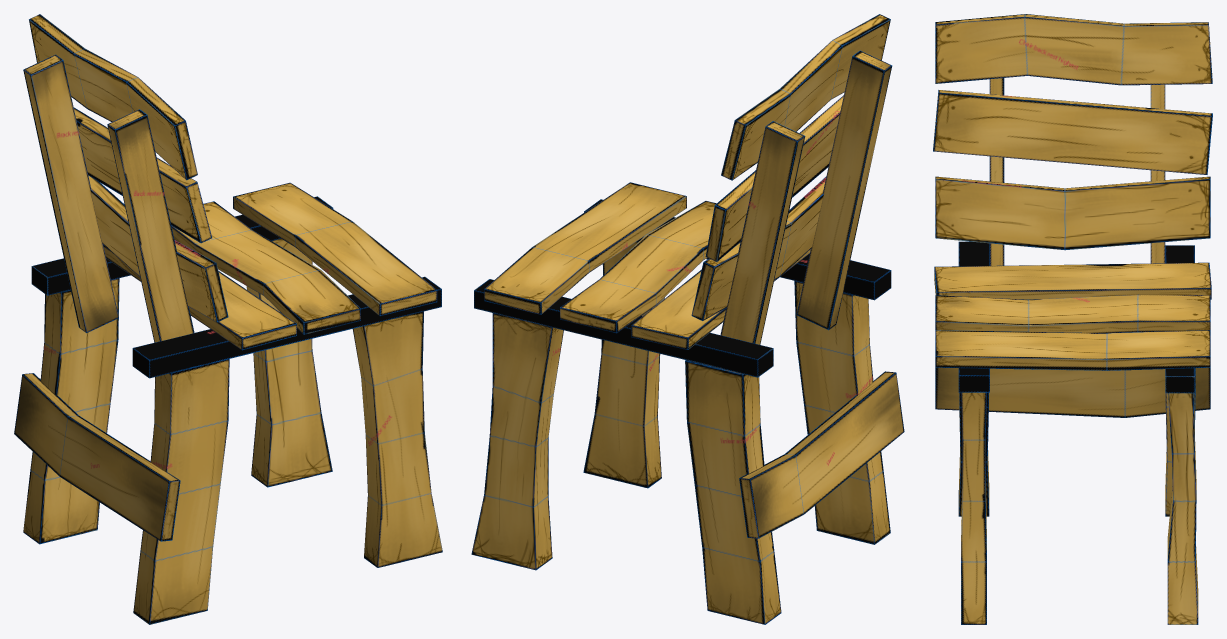
Rendered from Chair (1).fbx.
The picture shows the model from 3 angles, left to right: view 1: azimuth 30°, elevation 25°; view 2: azimuth 150°, elevation 25°; view 3: azimuth 270°, elevation 25°; orthographic projection. The views are drawn at different scales.
Parts seen in each view (by area): view 1: R_back, R_front, back_AAAAA, L_back, R_backholder1, seet_front, L_front, R_backholder, seet_middle, seet_back3, R_top, seet_back1 (+3 smaller); view 2: L_back, L_front, R_back, back_AAAAA, R_backholder, seet_front, R_front, R_backholder1, seet_middle, seet_back3, L_top, seet_back2 (+3 smaller); view 3: seet_back2, seet_back3, seet_back1, seet_front, back_AAAAA, seet_middle, seet_back, L_front, R_front, R_top, L_top, R_backholder (+3 smaller).
Boxes of the visible parts, x1=… form: R_back: x1=133, y1=359, x2=229, y2=624; R_front: x1=352, y1=311, x2=442, y2=567; back_AAAAA: x1=14, y1=373, x2=180, y2=541; L_back: x1=23, y1=278, x2=119, y2=544; R_backholder1: x1=23, y1=54, x2=118, y2=332; seet_front: x1=233, y1=182, x2=437, y2=315; L_front: x1=246, y1=239, x2=332, y2=487; R_backholder: x1=107, y1=109, x2=194, y2=342; seet_middle: x1=171, y1=201, x2=360, y2=334; seet_back3: x1=29, y1=14, x2=197, y2=180; R_top: x1=132, y1=276, x2=441, y2=378; seet_back1: x1=88, y1=175, x2=228, y2=322; L_back: x1=685, y1=360, x2=781, y2=624; L_front: x1=471, y1=313, x2=563, y2=570; R_back: x1=794, y1=281, x2=890, y2=544; back_AAAAA: x1=739, y1=371, x2=904, y2=538; R_backholder: x1=796, y1=50, x2=892, y2=330; seet_front: x1=484, y1=182, x2=686, y2=314; R_front: x1=583, y1=242, x2=664, y2=488; R_backholder1: x1=720, y1=121, x2=805, y2=344; seet_middle: x1=560, y1=201, x2=716, y2=333; seet_back3: x1=721, y1=14, x2=890, y2=180; L_top: x1=474, y1=279, x2=773, y2=377; seet_back2: x1=705, y1=95, x2=843, y2=261; seet_back2: x1=933, y1=90, x2=1212, y2=174; seet_back3: x1=935, y1=14, x2=1212, y2=85; seet_back1: x1=935, y1=176, x2=1210, y2=250; seet_front: x1=935, y1=330, x2=1210, y2=370; back_AAAAA: x1=935, y1=367, x2=1210, y2=417; seet_middle: x1=935, y1=294, x2=1210, y2=333; seet_back: x1=934, y1=262, x2=1211, y2=299; L_front: x1=1167, y1=393, x2=1198, y2=624; R_front: x1=961, y1=392, x2=986, y2=624; R_top: x1=958, y1=241, x2=989, y2=392; L_top: x1=1165, y1=245, x2=1194, y2=393; R_backholder: x1=989, y1=78, x2=1004, y2=265.
Size of the model in its own units: 3.33 by 5.25 by 2.75.
